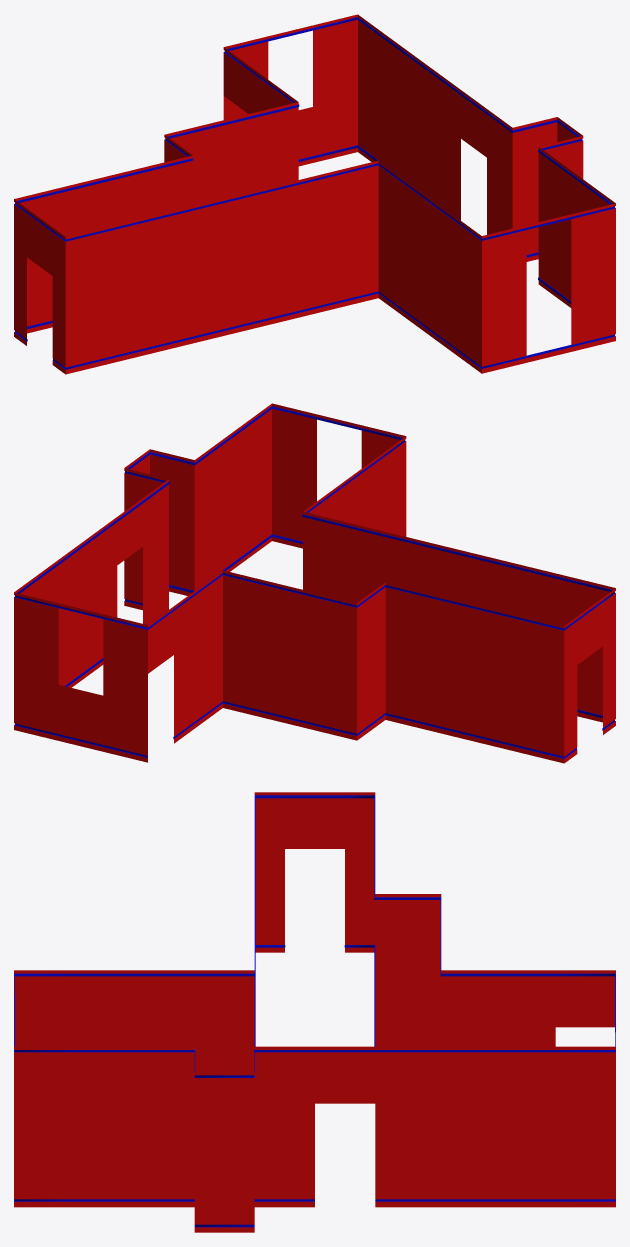
The model's file is Walls2ndFloor.fbx.
3 views of the same model, one above another, from view 1: azimuth 30°, elevation 25°; view 2: azimuth 150°, elevation 25°; view 3: azimuth 270°, elevation 25° (orthographic). The views are drawn at different scales.
Visible parts, largest first — view 1: Wall28; view 2: Wall28; view 3: Wall28.
Part boxes in pixels (x1,y1,x2,y2): Wall28: [14, 14, 615, 374]; Wall28: [14, 403, 615, 763]; Wall28: [14, 792, 615, 1232].
Size of the model in its own units: 1100 by 294 by 1000.
